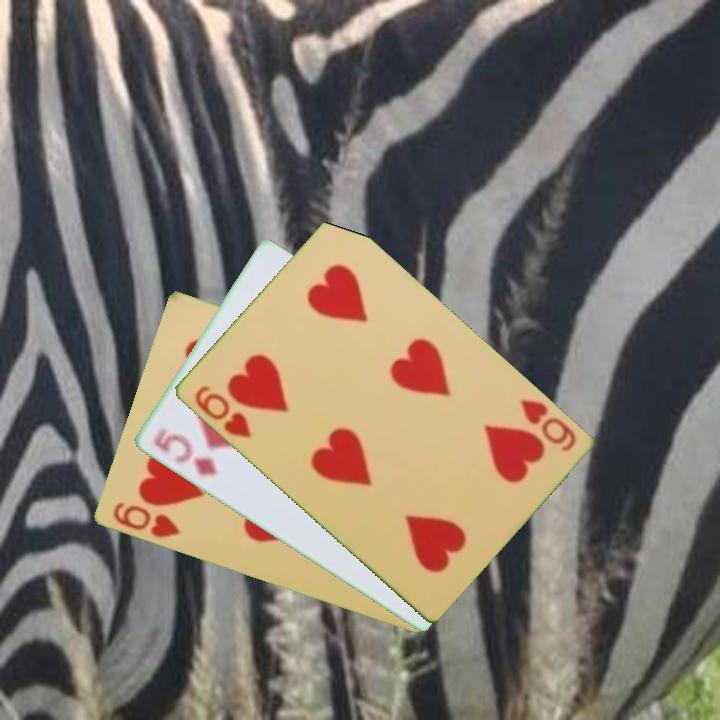5d: (149, 425, 221, 479)
6h: (190, 382, 254, 441), (516, 396, 579, 455), (109, 498, 183, 541)
